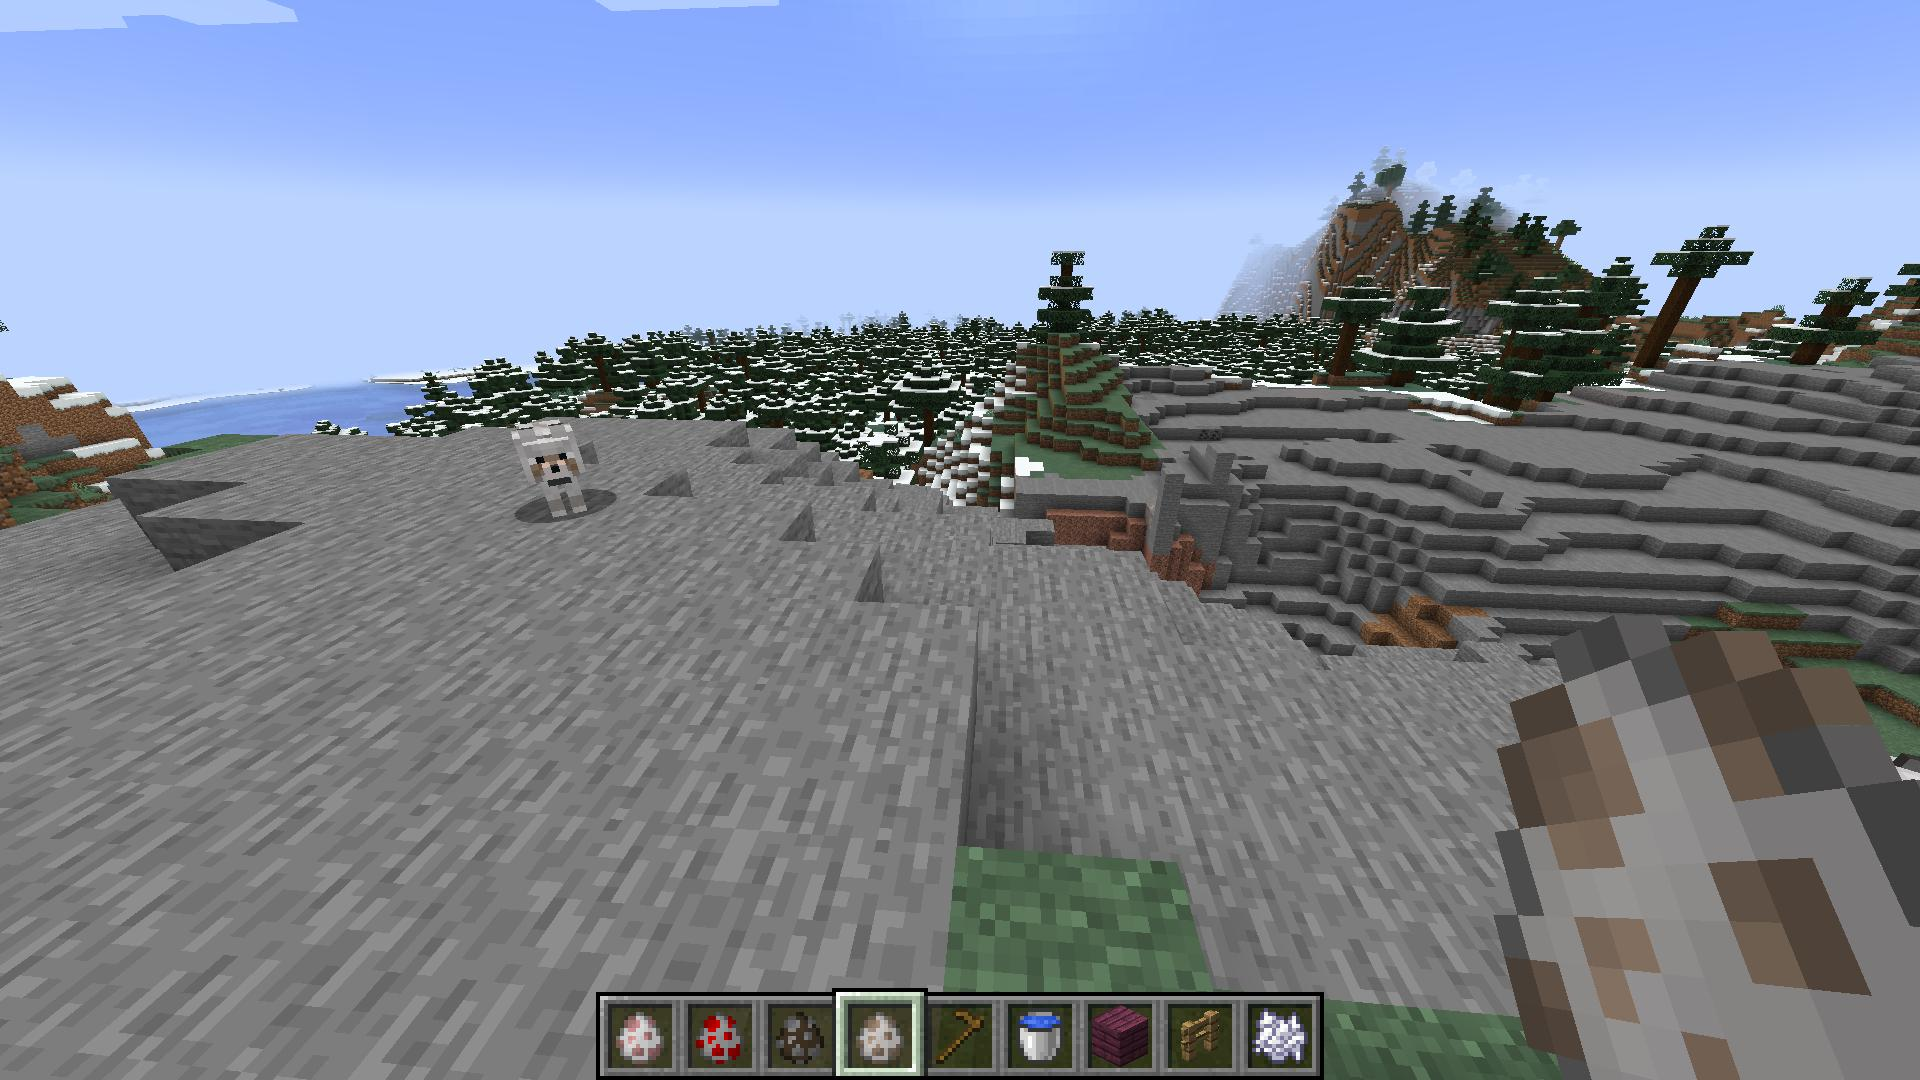wolf: (498, 402, 617, 526)
